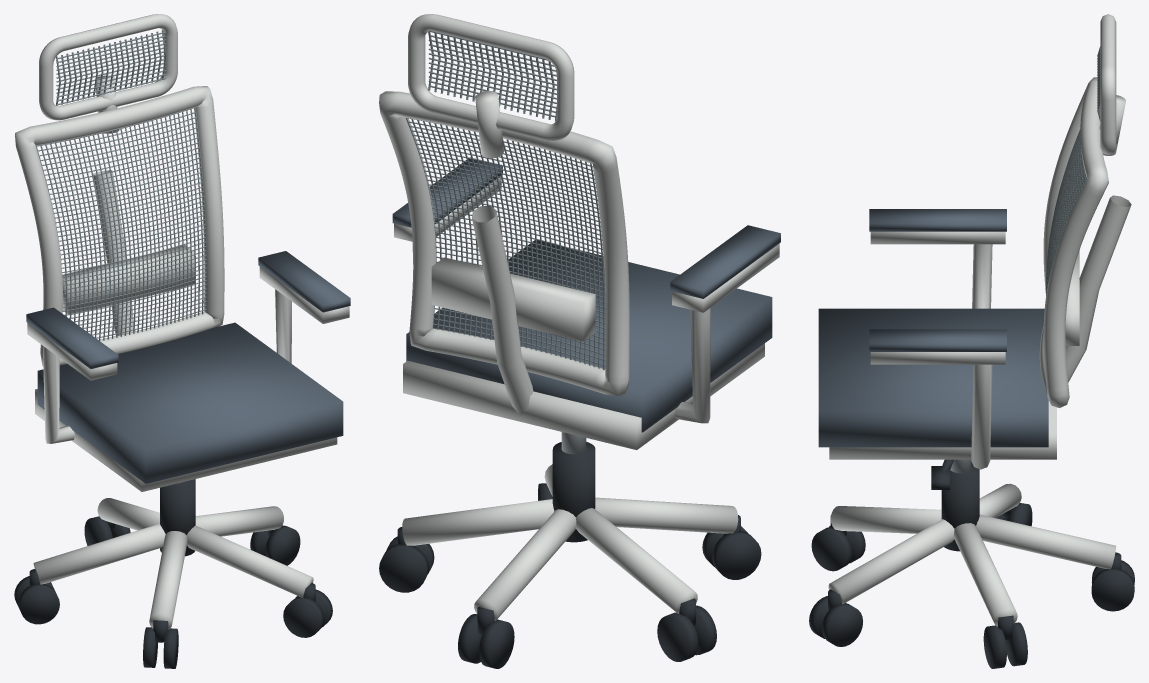
The model's file is posture-chair.glb.
3 views of the same model, side by side, from view 1: azimuth 30°, elevation 25°; view 2: azimuth 150°, elevation 25°; view 3: azimuth 270°, elevation 25° (orthographic). The views are drawn at different scales.
Visible parts, largest first — view 1: Seat cushion, Backrest ivory perimeter, Headrest frame, Lumbar support, Foot 2, Foot 4, Seat shell, Arm pad -1, Arm pad 1, Foot 3, Foot 0, Back spine (+12 smaller); view 2: Seat cushion, Backrest ivory perimeter, Seat shell, Headrest frame, Lumbar support, Back spine, Foot 0, Foot 2, Foot 3, Foot 1, Arm pad -1, Gas lift casing (+11 smaller); view 3: Seat cushion, Backrest ivory perimeter, Foot 1, Back spine, Foot 4, Arm pad 1, Arm pad -1, Seat shell, Foot 0, Foot 3, Headrest frame, Arm support 1 (+12 smaller).
Part boxes in pixels (left/top/right/bottom): Seat cushion: left=37, top=322, right=343, bottom=483; Backrest ivory perimeter: left=15, top=86, right=224, bottom=366; Headrest frame: left=39, top=14, right=177, bottom=120; Lumbar support: left=62, top=245, right=194, bottom=315; Foot 2: left=33, top=523, right=165, bottom=584; Foot 4: left=186, top=525, right=313, bottom=597; Seat shell: left=35, top=389, right=337, bottom=491; Arm pad -1: left=26, top=307, right=118, bottom=368; Arm pad 1: left=258, top=251, right=350, bottom=312; Foot 3: left=149, top=531, right=187, bottom=629; Foot 0: left=195, top=506, right=283, bottom=536; Back spine: left=93, top=170, right=135, bottom=335; Seat cushion: left=406, top=240, right=772, bottom=432; Backrest ivory perimeter: left=379, top=91, right=629, bottom=395; Seat shell: left=403, top=343, right=764, bottom=449; Headrest frame: left=408, top=14, right=574, bottom=141; Lumbar support: left=431, top=257, right=595, bottom=341; Back spine: left=472, top=206, right=533, bottom=414; Foot 0: left=402, top=499, right=554, bottom=545; Foot 2: left=576, top=508, right=697, bottom=613; Foot 3: left=595, top=497, right=738, bottom=533; Foot 1: left=474, top=509, right=576, bottom=620; Arm pad -1: left=670, top=225, right=780, bottom=298; Gas lift casing: left=552, top=442, right=595, bottom=542; Seat cushion: left=818, top=308, right=1048, bottom=447; Backrest ivory perimeter: left=1039, top=77, right=1108, bottom=407; Foot 1: left=976, top=514, right=1116, bottom=569; Back spine: left=1065, top=195, right=1131, bottom=382; Foot 4: left=828, top=519, right=954, bottom=604; Arm pad 1: left=869, top=329, right=1006, bottom=351; Arm pad -1: left=869, top=209, right=1006, bottom=231; Seat shell: left=829, top=401, right=1056, bottom=459; Foot 0: left=954, top=523, right=1017, bottom=626; Foot 3: left=831, top=506, right=941, bottom=533; Headrest frame: left=1100, top=14, right=1116, bottom=154; Arm support 1: left=971, top=364, right=992, bottom=469.
Size of the model in its own units: 0.6823 by 1.24 by 0.6519.
